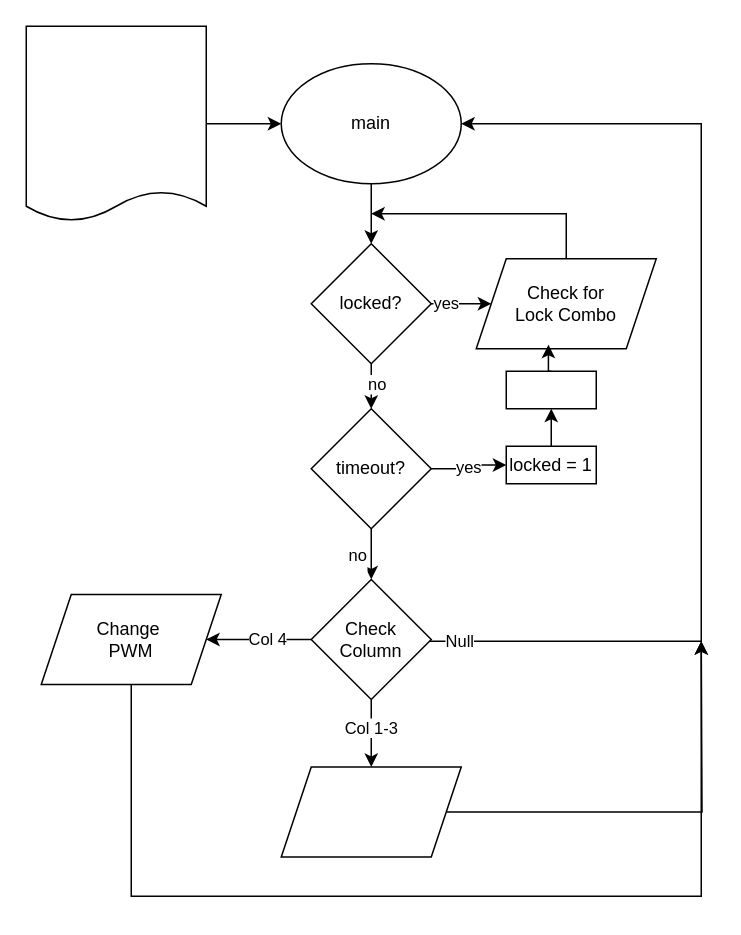
Image size: 741x935. Some labels were removed from this diagram. The shapes that lost their labels are listed below. From the top down, each one's centre as x and y in pixels, then its label:
At [115,123]: "init: 1-4 input 2-8 output set 1-4 HI Locked = 1 LEDs 1-8 off Setup Base PWM".
At [550,389]: "LEDs = 0".
At [370,811]: "Change Pattern".
